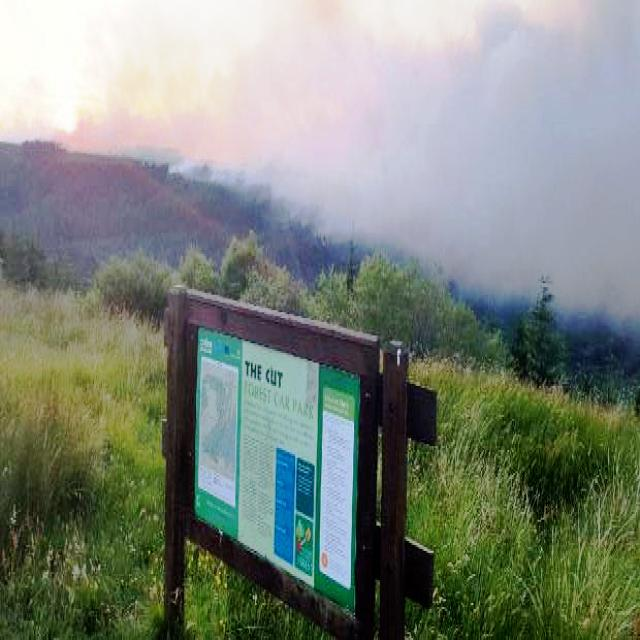asap: (73, 1, 640, 310)
